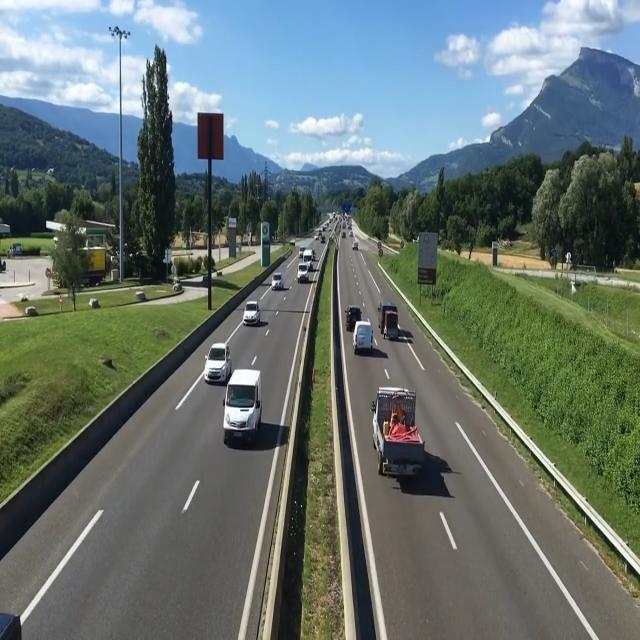car: (373, 386, 425, 486), (224, 365, 262, 446), (204, 343, 232, 387), (353, 311, 377, 358), (380, 301, 406, 344), (239, 297, 264, 332), (294, 262, 312, 288), (272, 268, 288, 294)
